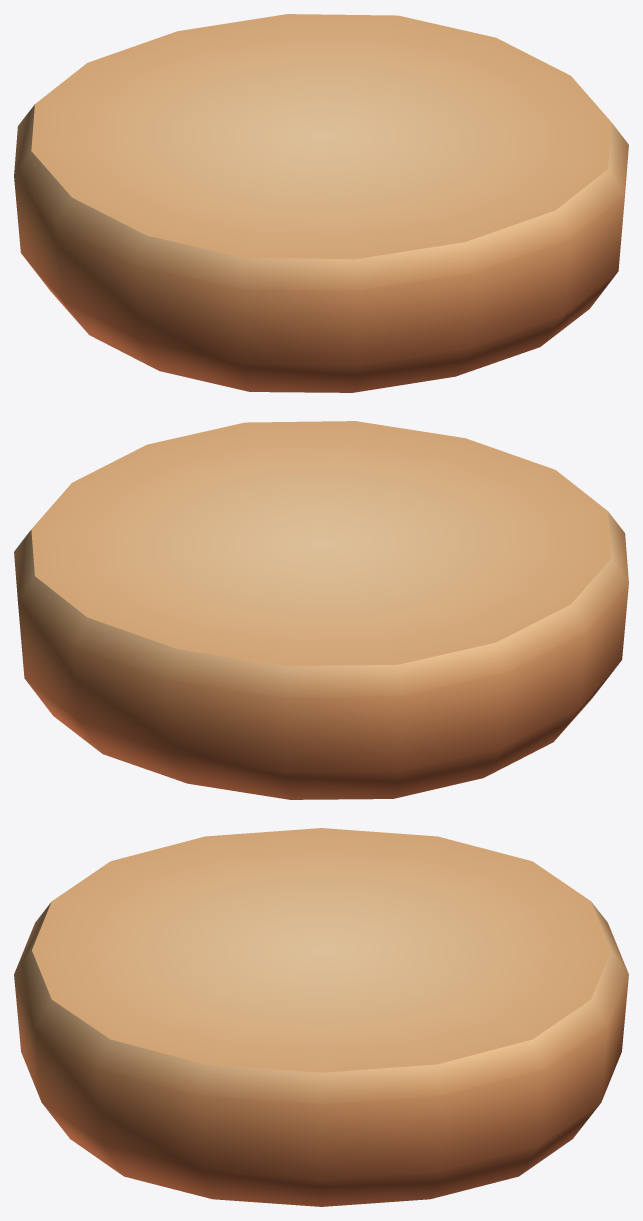
Rendered from burger bun bottom.glb.
3 views of the same model, one above another, from view 1: azimuth 30°, elevation 25°; view 2: azimuth 150°, elevation 25°; view 3: azimuth 270°, elevation 25° (orthographic).
Visible parts, largest first — view 1: food_ingredient_bun_bottom; view 2: food_ingredient_bun_bottom; view 3: food_ingredient_bun_bottom.
Boxes of the visible parts, bbox=[...] form: food_ingredient_bun_bottom: bbox=[14, 14, 628, 392]; food_ingredient_bun_bottom: bbox=[14, 421, 628, 799]; food_ingredient_bun_bottom: bbox=[14, 828, 628, 1206].
Size of the model in its own units: 0.6938 by 0.2 by 0.6938.
Materials: 1 (1 with a texture image).
